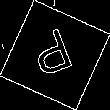P_S: (29, 25, 81, 85)
